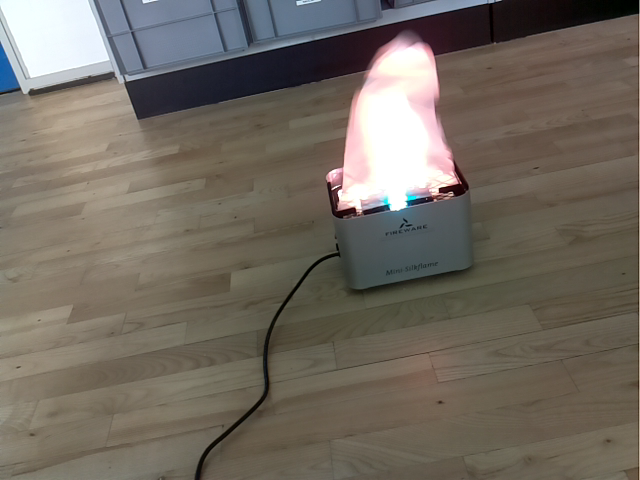fire: (335, 30, 461, 214)
